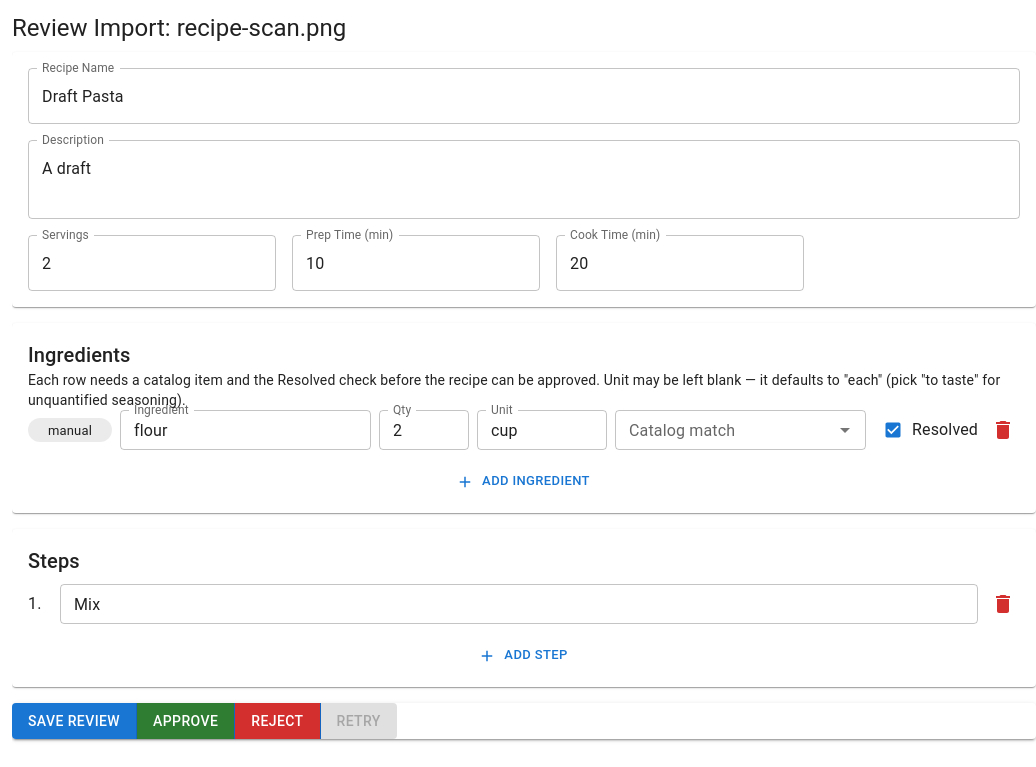
it: pending recipe detail page › shows a save error when the API fails
This screenshot has width=1036, height=767.
Expected: the field showing "Draft Pasta" is shown, [28,68,1020,124]
Click the button "Save Review" at (74, 721), box [12,703,137,739]
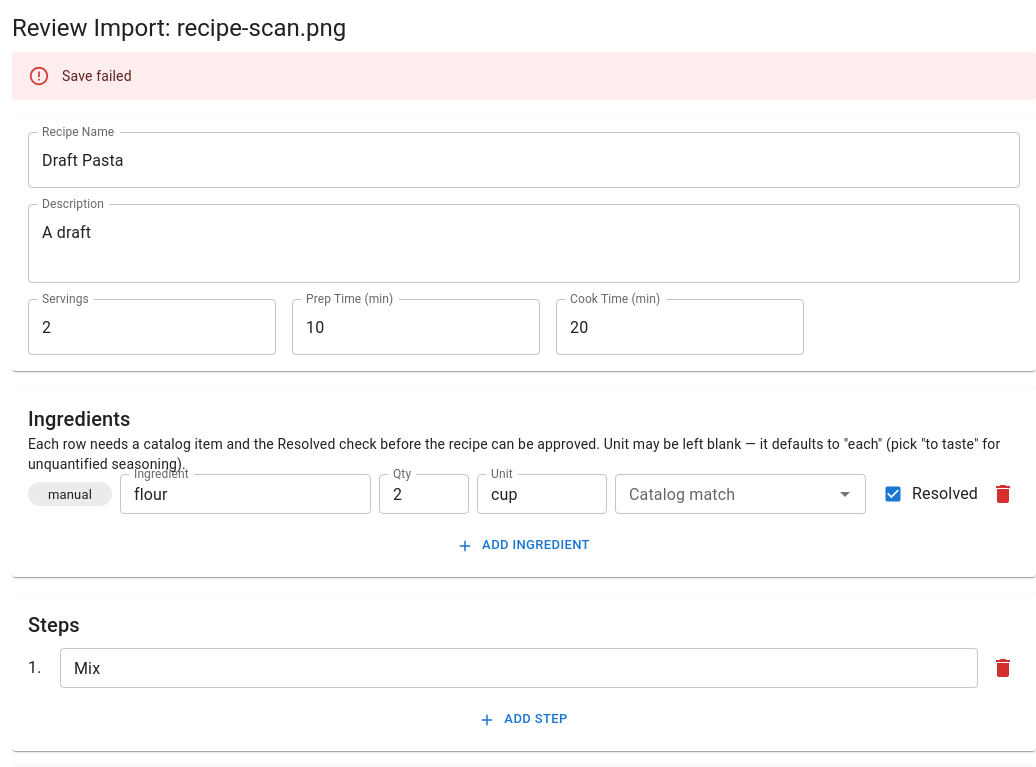
Expected: the text "Save failed" is shown, [62,68,132,84]
